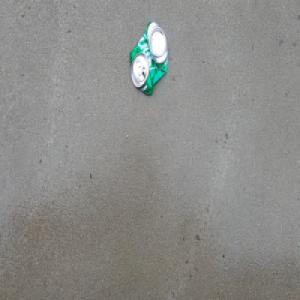SodaCan: (128, 18, 169, 97)
